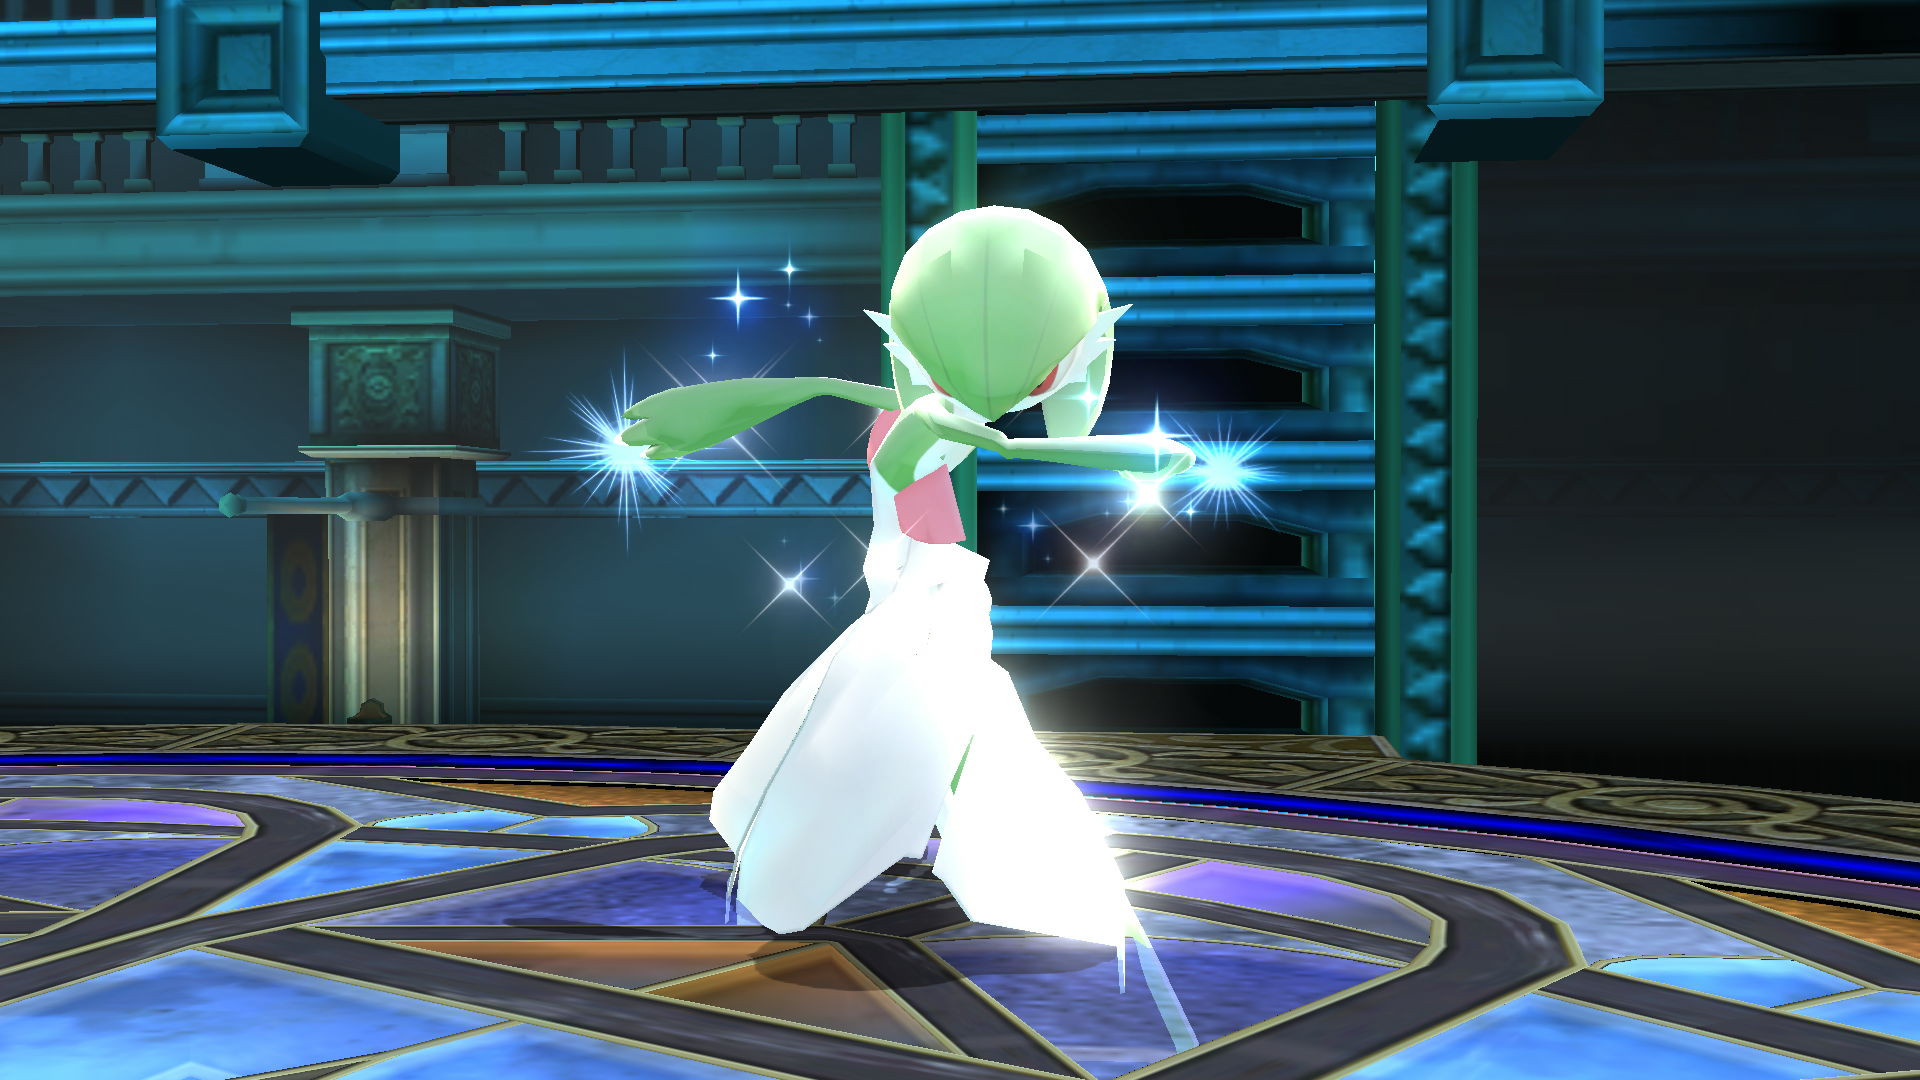gardevoir: (527, 177, 1250, 967)
